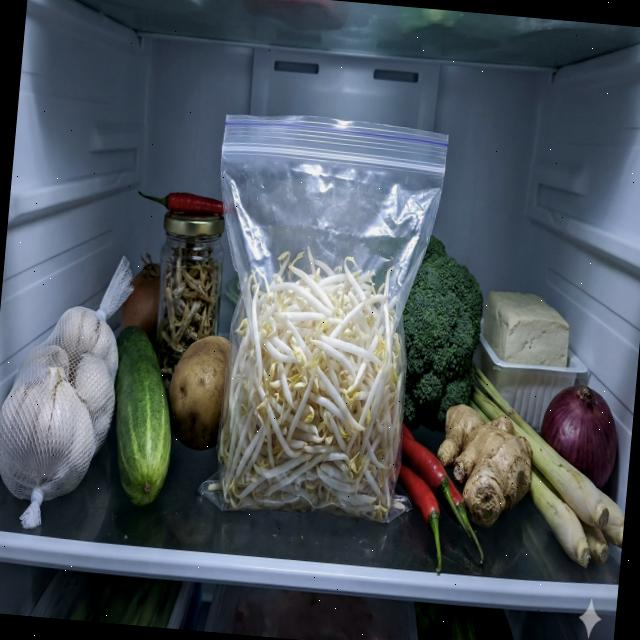anchovies: (152, 236, 223, 397)
bean_sprouts: (206, 238, 430, 526)
brocolli: (392, 232, 488, 436)
chili: (389, 423, 495, 578), (136, 188, 226, 216)
cucumber: (101, 323, 180, 510)
garlic: (0, 298, 123, 508)
ginger: (431, 401, 536, 532)
lemongrass: (454, 360, 636, 572)
onion: (536, 383, 622, 490)
potato: (163, 332, 230, 454)
tofu: (479, 289, 573, 368)
